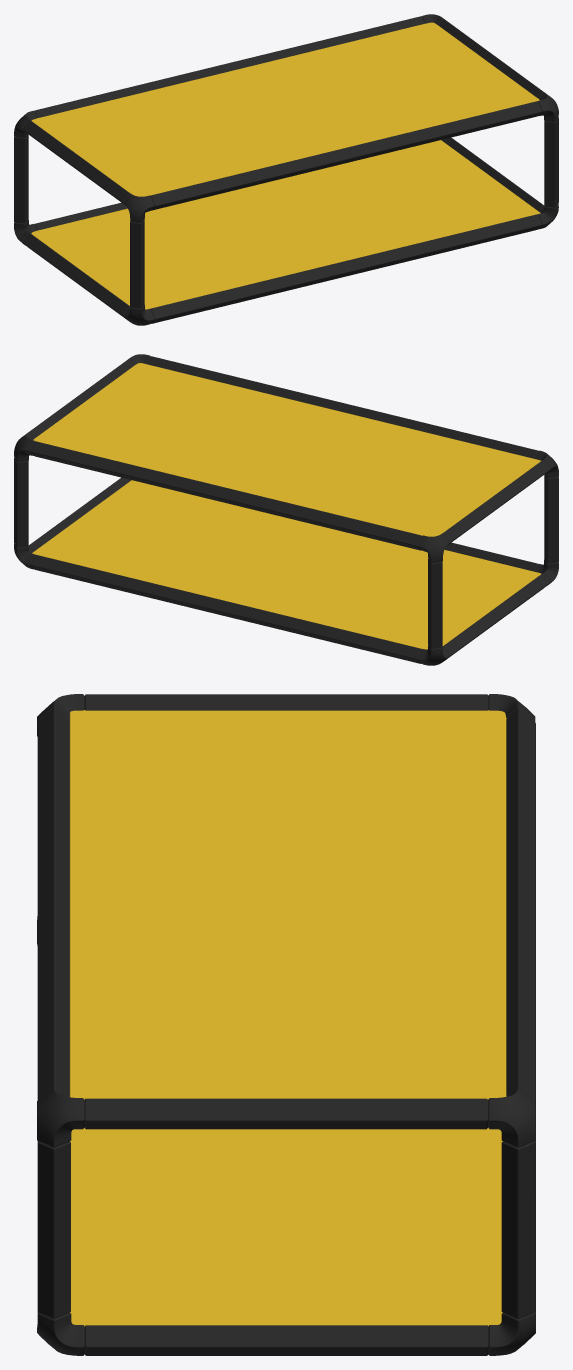
3 renders of one model, top to bottom at view 1: azimuth 30°, elevation 25°; view 2: azimuth 150°, elevation 25°; view 3: azimuth 270°, elevation 25°, orthographic. The views are drawn at different scales.
Parts seen in each view (by area): view 1: 729x329x154; view 2: 729x329x154; view 3: 729x329x154.
Boxes of the visible parts, x1=… form: 729x329x154: x1=14, y1=14, x2=558, y2=325; 729x329x154: x1=14, y1=354, x2=558, y2=665; 729x329x154: x1=37, y1=694, x2=535, y2=1355.
Size of the model in its own units: 0.8067 by 0.2317 by 0.4063.
